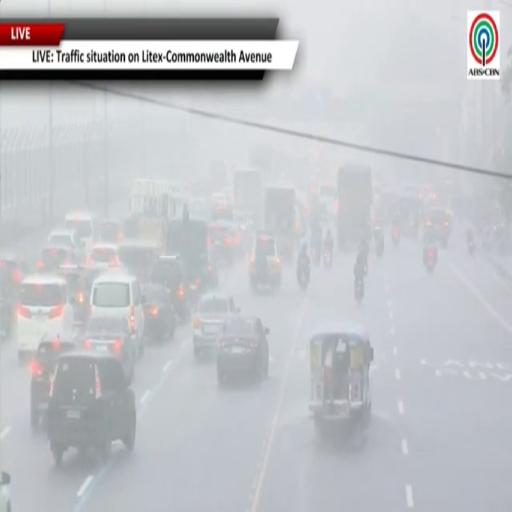car: (47, 352, 136, 466), (16, 275, 75, 362), (30, 334, 79, 429), (90, 271, 144, 356), (217, 315, 269, 385), (83, 317, 137, 381), (193, 294, 239, 358), (150, 255, 194, 321), (0, 255, 26, 340), (57, 265, 90, 325), (143, 283, 176, 342), (249, 233, 281, 290), (118, 239, 157, 281), (209, 221, 240, 264), (65, 212, 97, 251), (38, 245, 79, 273), (0, 254, 27, 294), (86, 243, 120, 271), (47, 229, 83, 252), (99, 219, 124, 244), (0, 471, 11, 511), (211, 201, 233, 221)
motorcycle: (424, 248, 437, 273), (374, 228, 384, 258), (297, 267, 309, 291), (355, 278, 364, 303), (467, 231, 476, 254), (324, 249, 332, 269), (392, 227, 400, 247), (376, 239, 384, 258), (468, 242, 475, 255)
truck: (124, 180, 175, 248), (337, 165, 372, 248), (264, 185, 296, 262), (233, 169, 262, 227), (208, 160, 227, 193)
